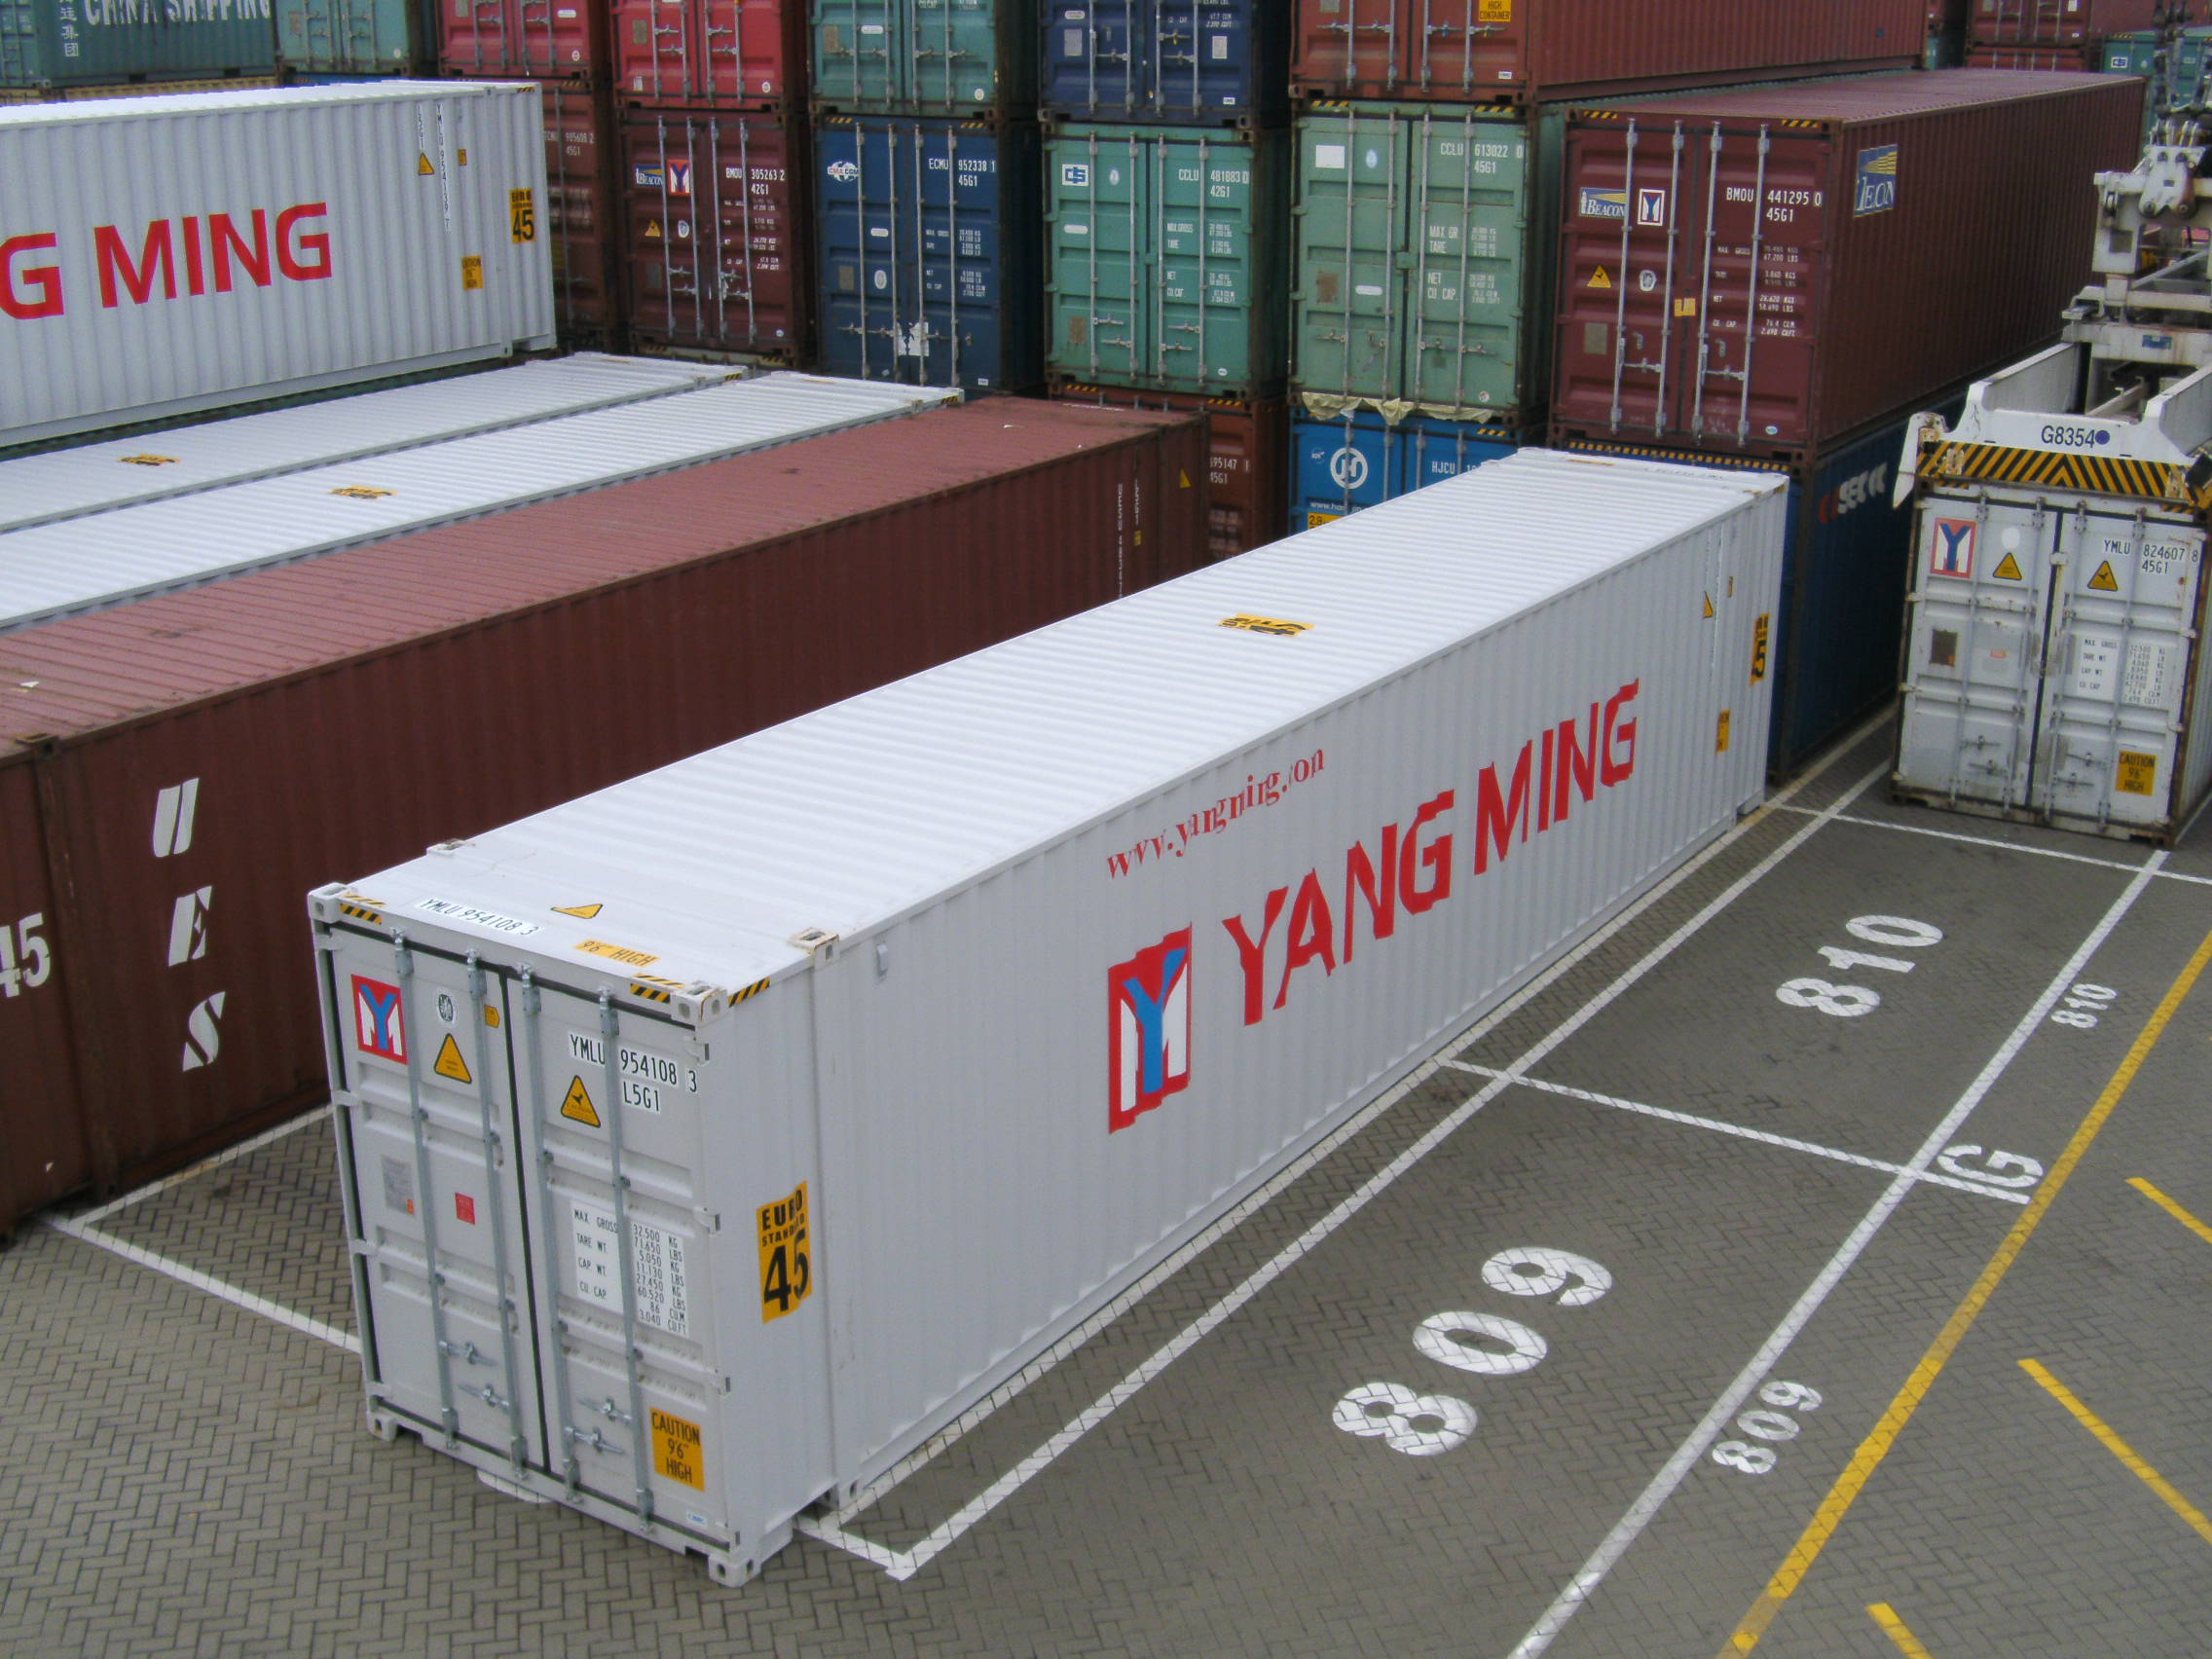container_door: (312, 884, 751, 1589), (1895, 474, 2193, 857), (1573, 112, 1803, 453), (1310, 113, 1507, 408), (624, 115, 812, 354), (806, 134, 995, 373), (1038, 132, 1226, 371)
